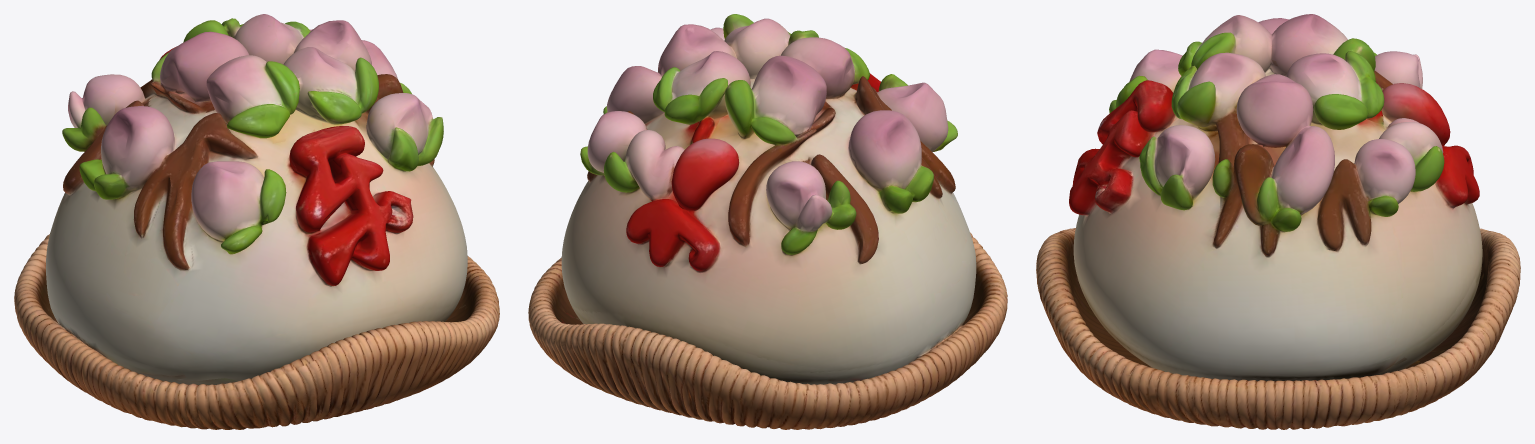
3 renders of one model, left to right at view 1: azimuth 30°, elevation 25°; view 2: azimuth 150°, elevation 25°; view 3: azimuth 270°, elevation 25°, orthographic.
Parts seen in each view (by area): view 1: node_0; view 2: node_0; view 3: node_0.
Boxes of the visible parts, x1=… form: node_0: x1=14, y1=14, x2=499, y2=429; node_0: x1=528, y1=14, x2=1007, y2=429; node_0: x1=1036, y1=14, x2=1520, y2=429.
Size of the model in its own units: 0.9971 by 0.7455 by 1.04.
1 material, 1 textured.
